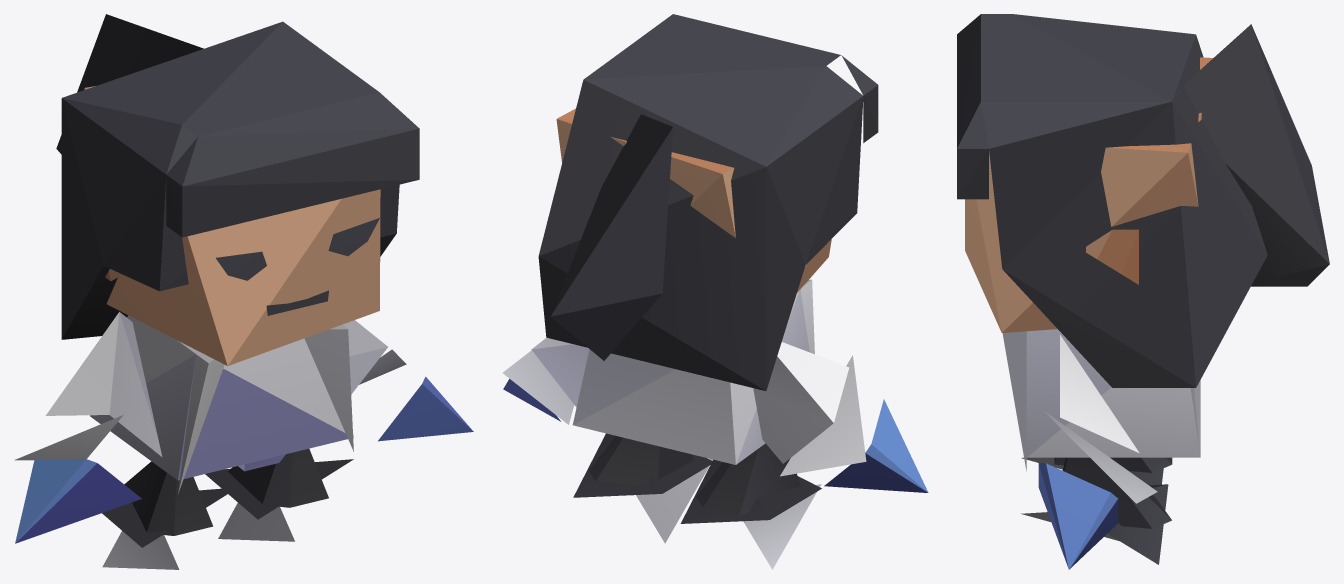
The model's file is person-female-e.glb.
3 views of the same model, side by side, from view 1: azimuth 30°, elevation 25°; view 2: azimuth 150°, elevation 25°; view 3: azimuth 270°, elevation 25° (orthographic). The views are drawn at different scales.
Parts seen in each view (by area): view 1: character-female-e; view 2: character-female-e; view 3: character-female-e.
Part boxes in pixels (bbox=[...]): character-female-e: bbox=[14, 14, 473, 569]; character-female-e: bbox=[502, 14, 928, 569]; character-female-e: bbox=[957, 14, 1329, 569].
Bounding box in the file's own units: 1.68 × 1.75 × 1.19.
